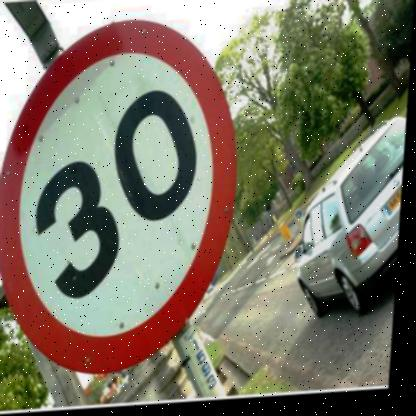Speed Limit -30-: (0, 7, 241, 390)
